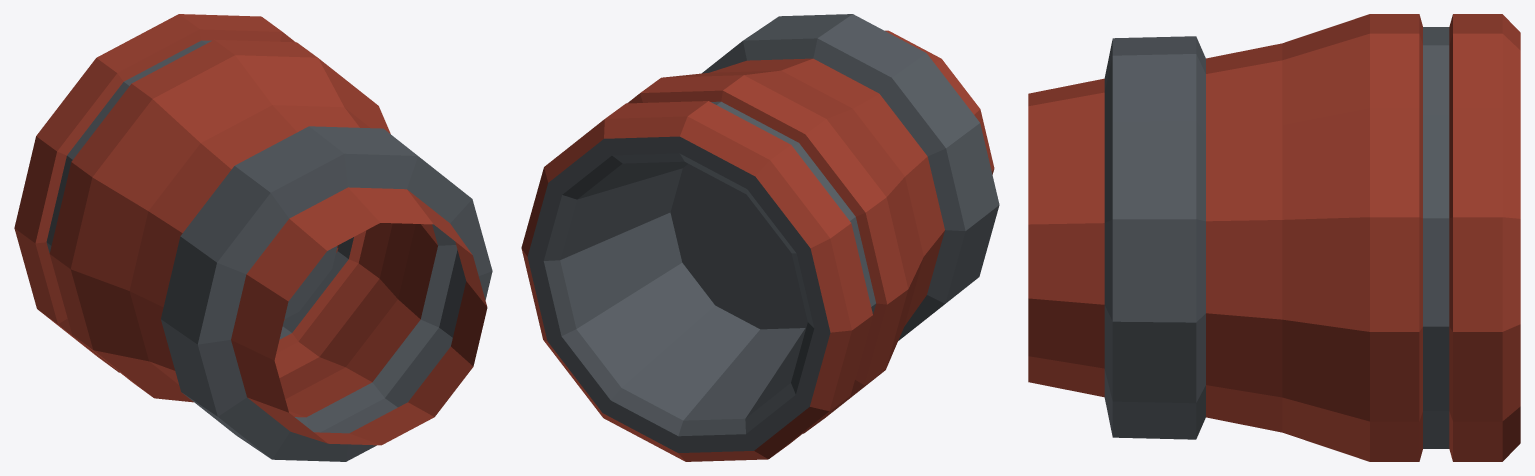
The model's file is Mothership_01_Thruster_Red.fbx.
3 renders of one model, left to right at view 1: azimuth 30°, elevation 25°; view 2: azimuth 150°, elevation 25°; view 3: azimuth 270°, elevation 25°, orthographic. The views are drawn at different scales.
Visible parts, largest first — view 1: Mothership_01_Thruster_Red; view 2: Mothership_01_Thruster_Red; view 3: Mothership_01_Thruster_Red.
Boxes of the visible parts, box(x1,y1,x2,y2) form: Mothership_01_Thruster_Red: box(14, 14, 492, 461); Mothership_01_Thruster_Red: box(521, 14, 999, 461); Mothership_01_Thruster_Red: box(1028, 14, 1520, 461).
Bounding box in the file's own units: 734 × 734 × 804.
1 material, 1 textured.
